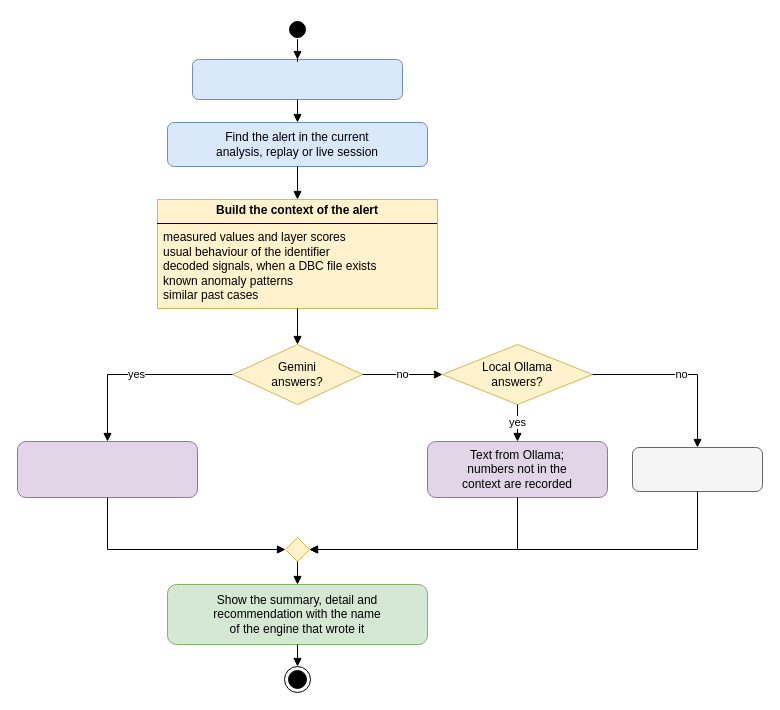
Image size: 780x710. Some labels were removed from this diagram. The shapes that lost their labels are listed below. From the top down, each one's centre as x and y in pixels, then its label:
At (297,79): "Analyst selects an alert".
At (107,469): "Text from Gemini; numbers not in the context are recorded".
At (697,469): "Rule based template".
